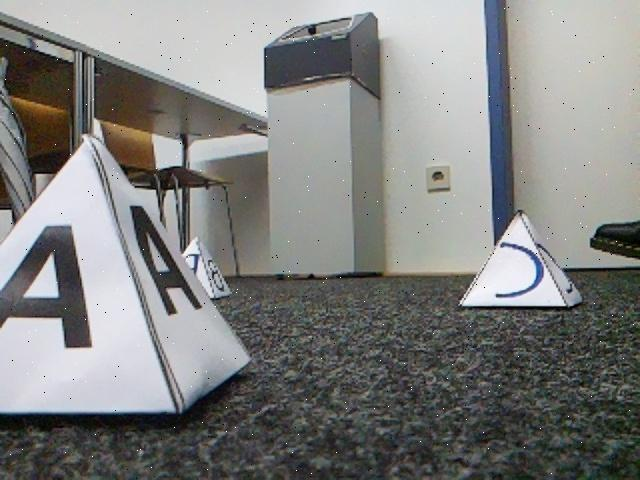A: (0, 137, 250, 416)
B: (172, 238, 231, 298)
C: (458, 212, 578, 307)
